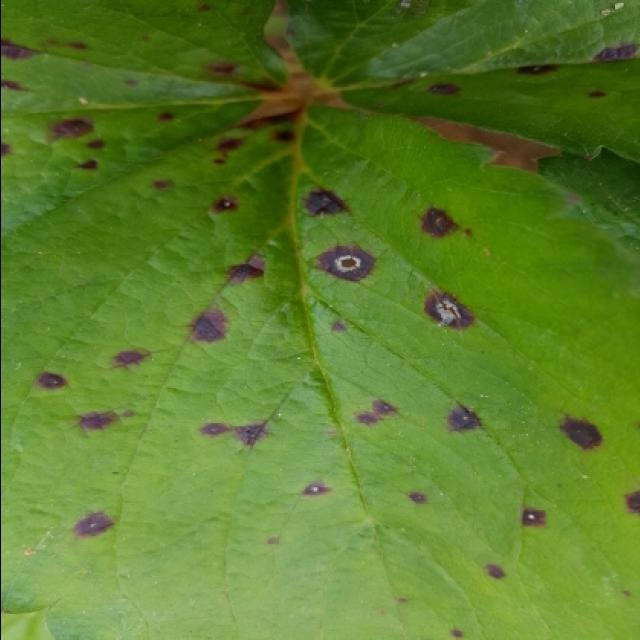Leaf Spot: (2, 101, 640, 640), (2, 2, 288, 247), (285, 2, 640, 166)
